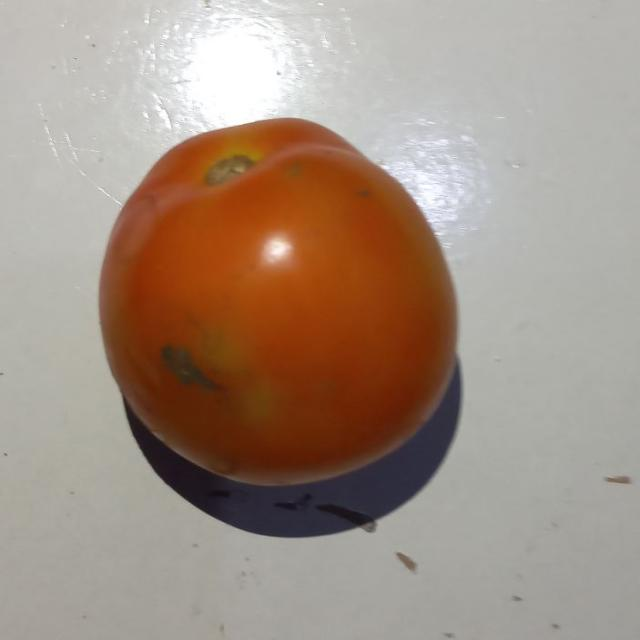ripe tomato: (91, 115, 463, 494)
